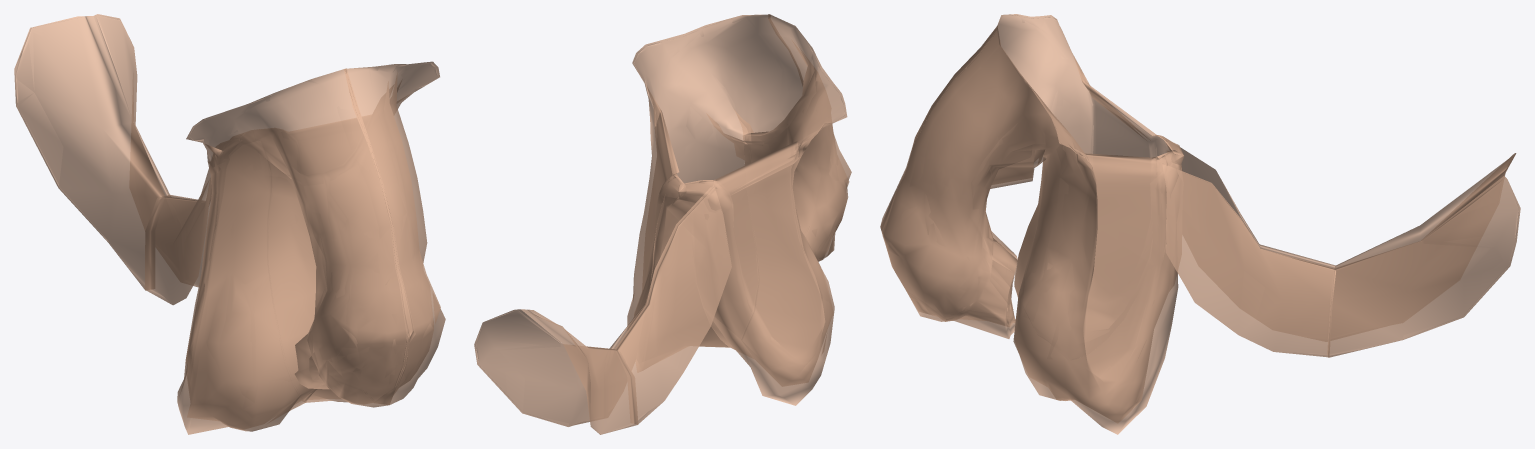
File: regions.pelvis.glb
The picture shows the model from 3 angles, left to right: view 1: azimuth 30°, elevation 25°; view 2: azimuth 150°, elevation 25°; view 3: azimuth 270°, elevation 25°; orthographic projection. The views are drawn at different scales.
Visible parts, largest first — view 1: right_urogenital_region, right_anal_region, left_urogenital_region, left_anal_region; view 2: right_urogenital_region, left_urogenital_region, left_anal_region, right_anal_region; view 3: left_urogenital_region, left_anal_region, right_urogenital_region, right_anal_region.
Boxes of the visible parts, x1,y1,x2,y2 form: right_urogenital_region: (144,68,415,434); right_anal_region: (14,16,164,290); left_urogenital_region: (165,61,445,404); left_anal_region: (93,14,170,196); right_urogenital_region: (615,14,851,424); left_urogenital_region: (609,14,803,348); left_anal_region: (474,309,589,426); right_anal_region: (521,309,638,434); left_urogenital_region: (880,26,1335,434); left_anal_region: (1327,176,1520,357); right_urogenital_region: (880,14,1335,322); right_anal_region: (1334,153,1516,267).
Bounding box in the file's own units: 0.0755 × 0.1126 × 0.1775.
